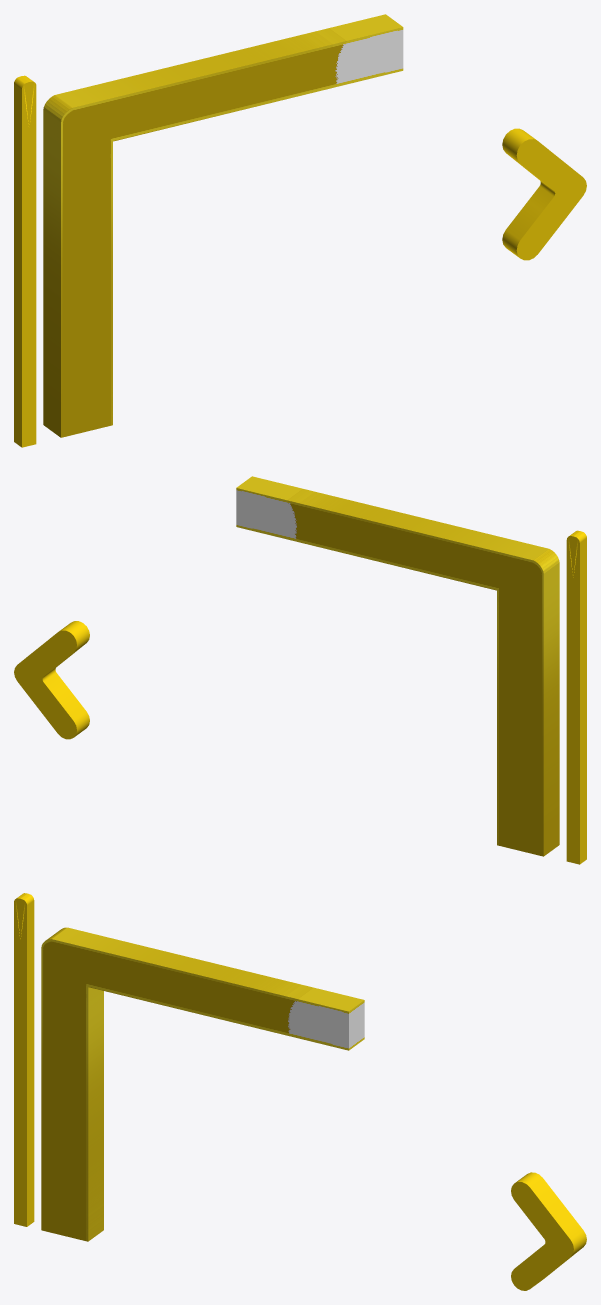
3 views of the same model, one above another, from view 1: azimuth 30°, elevation 25°; view 2: azimuth 150°, elevation 25°; view 3: azimuth 330°, elevation 25° (orthographic). The views are drawn at different scales.
Parts seen in each view (by area): view 1: fsEf, gSERg, efde; view 2: fsEf, gSERg, efde; view 3: fsEf, gSERg, efde.
Part boxes in pixels (x1=…): fsEf: x1=43, y1=14, x2=403, y2=437; gSERg: x1=14, y1=75, x2=36, y2=447; efde: x1=502, y1=128, x2=586, y2=260; fsEf: x1=236, y1=476, x2=559, y2=856; gSERg: x1=566, y1=530, x2=586, y2=864; efde: x1=14, y1=621, x2=89, y2=739; fsEf: x1=41, y1=927, x2=364, y2=1241; gSERg: x1=14, y1=893, x2=34, y2=1226; efde: x1=511, y1=1172, x2=586, y2=1290.
Size of the model in its own units: 2299 by 1345 by 322.
